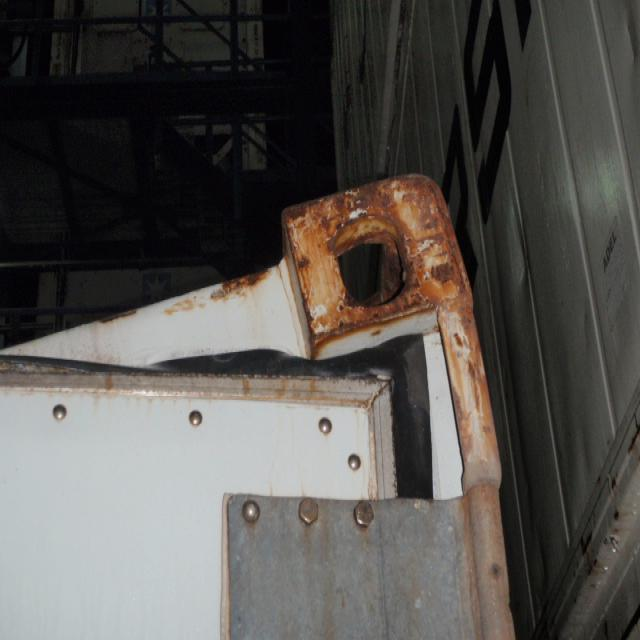hole: (144, 328, 439, 508)
